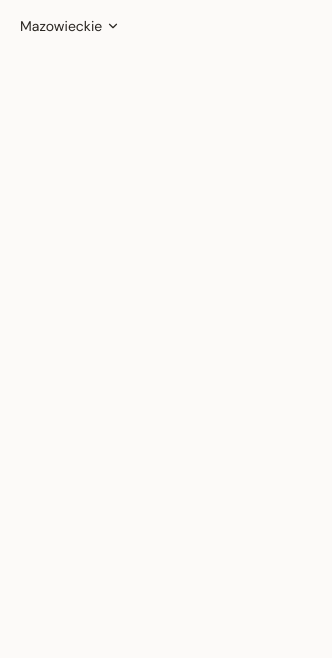
Test: BreadcrumbCityDropdown — liczniki po dociagnieciu katalogu (AF-1-081) › przed zaladowaniem nie pokazuje (0), po zaladowaniu pokazuje liczby
Click the button "Mazowieckie" at (70, 26), box [12, 12, 128, 40]
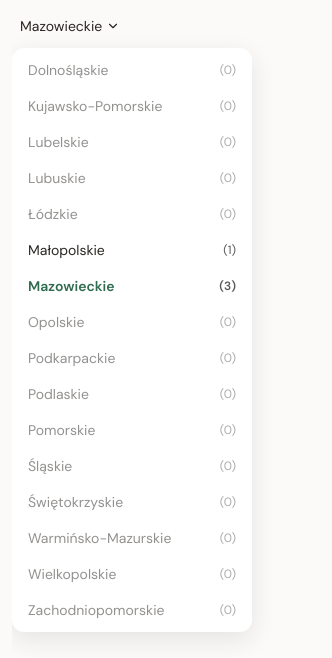
Expected: the link "Mazowieckie (3)" is shown, [28, 277, 236, 295]
